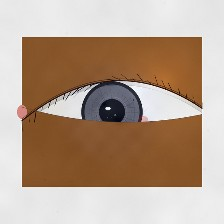hemorrhage_spot: (68, 93, 160, 167)
